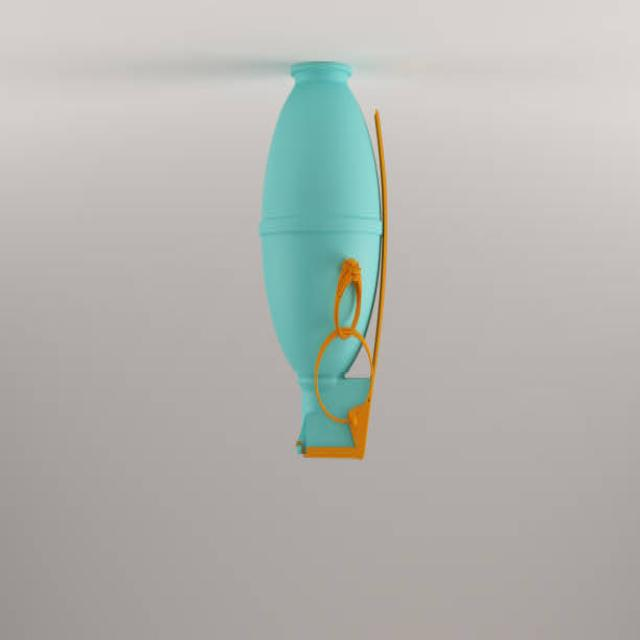grenade: (253, 57, 397, 481)
